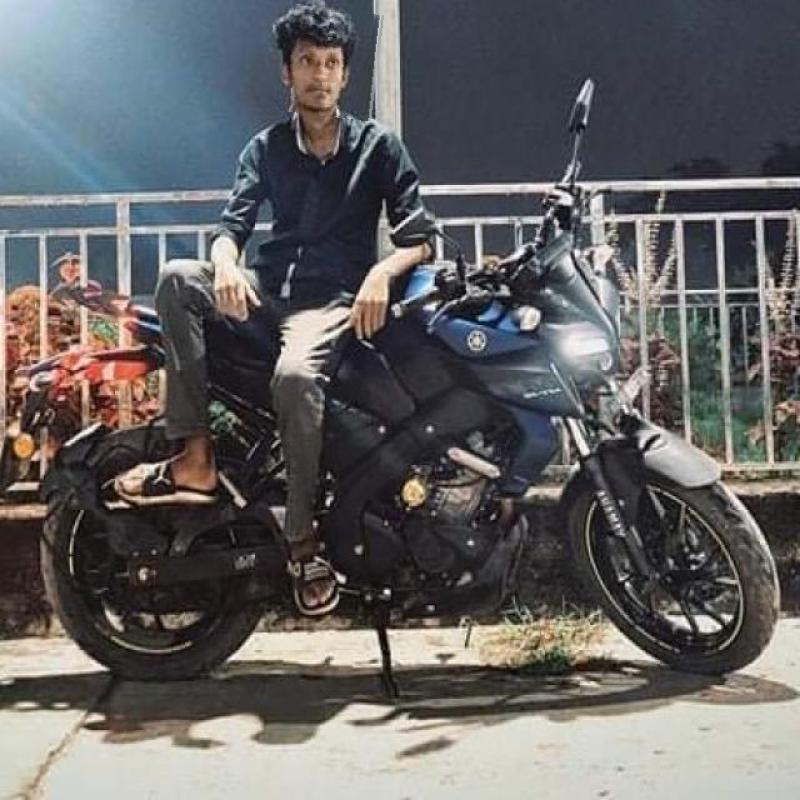nohelmet: (249, 4, 381, 117)
